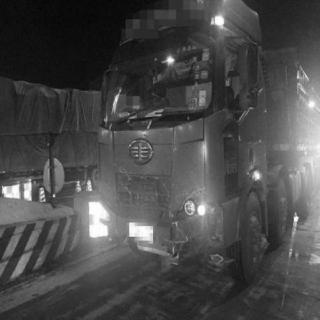other: (82, 193, 114, 251)
